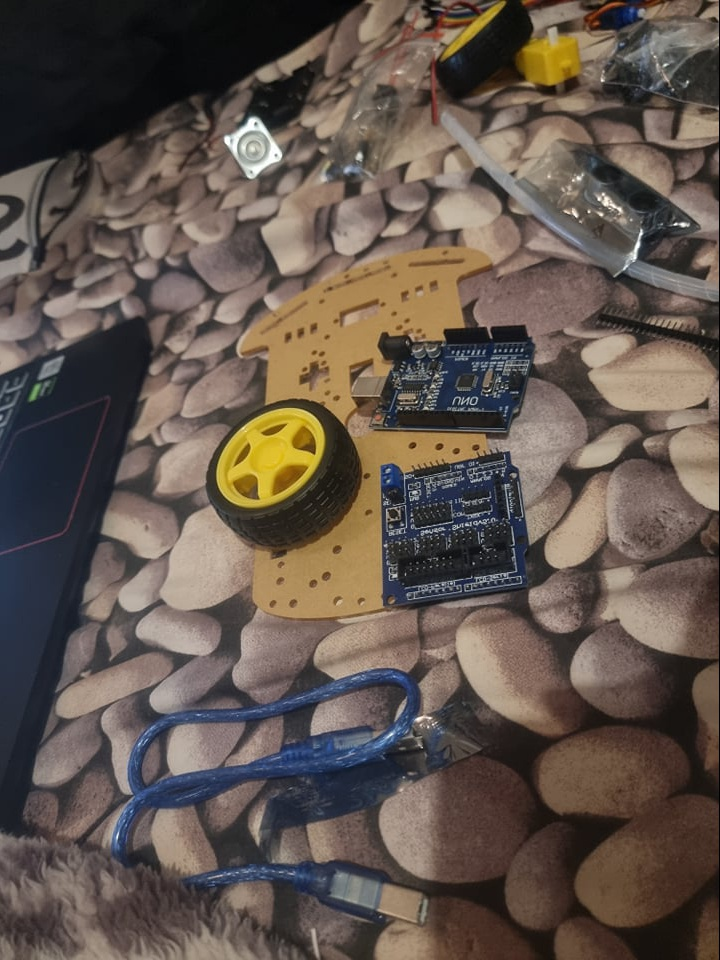5V EXPANSION: (383, 450, 529, 603)
BATTERY BOX: (247, 57, 324, 125)
UNO R3: (354, 320, 530, 438)
